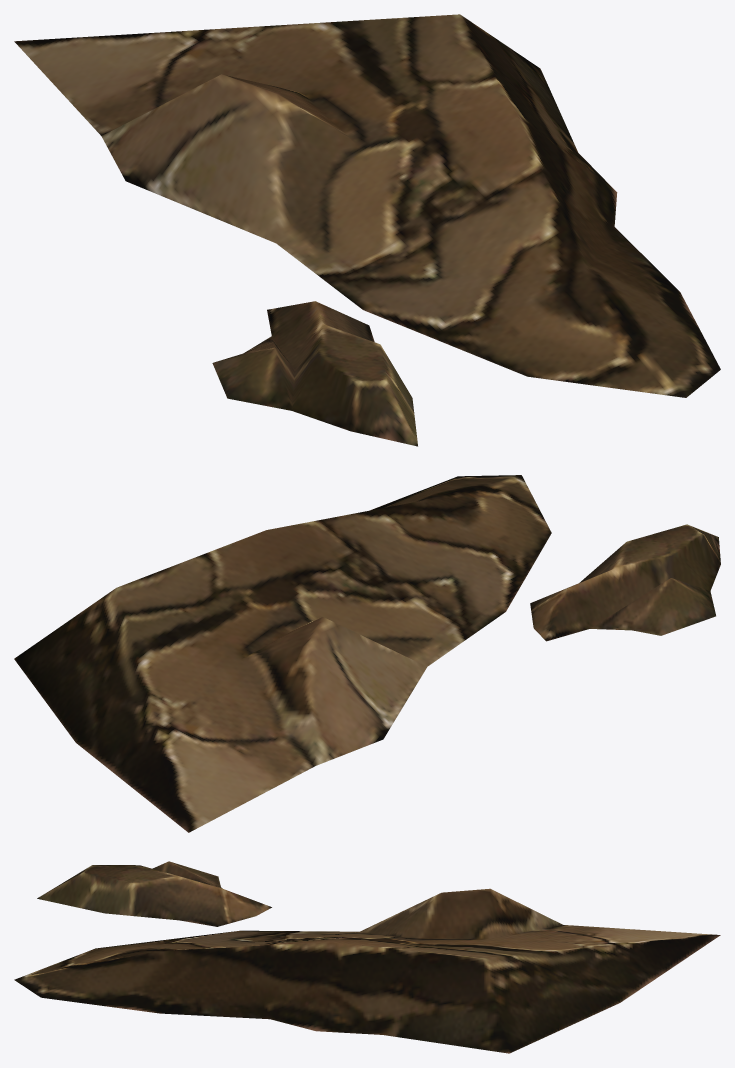
File: A_shitou005.fbx
3 renders of one model, top to bottom at view 1: azimuth 30°, elevation 25°; view 2: azimuth 150°, elevation 25°; view 3: azimuth 270°, elevation 25°, orthographic. The views are drawn at different scales.
Visible parts, largest first — view 1: A_shitou005; view 2: A_shitou005; view 3: A_shitou005.
Boxes of the visible parts, <box> form: A_shitou005: <box>14,14,720,446</box>; A_shitou005: <box>14,475,720,832</box>; A_shitou005: <box>14,861,720,1053</box>.
Bounding box in the file's own units: 111 × 17.36 × 179.
